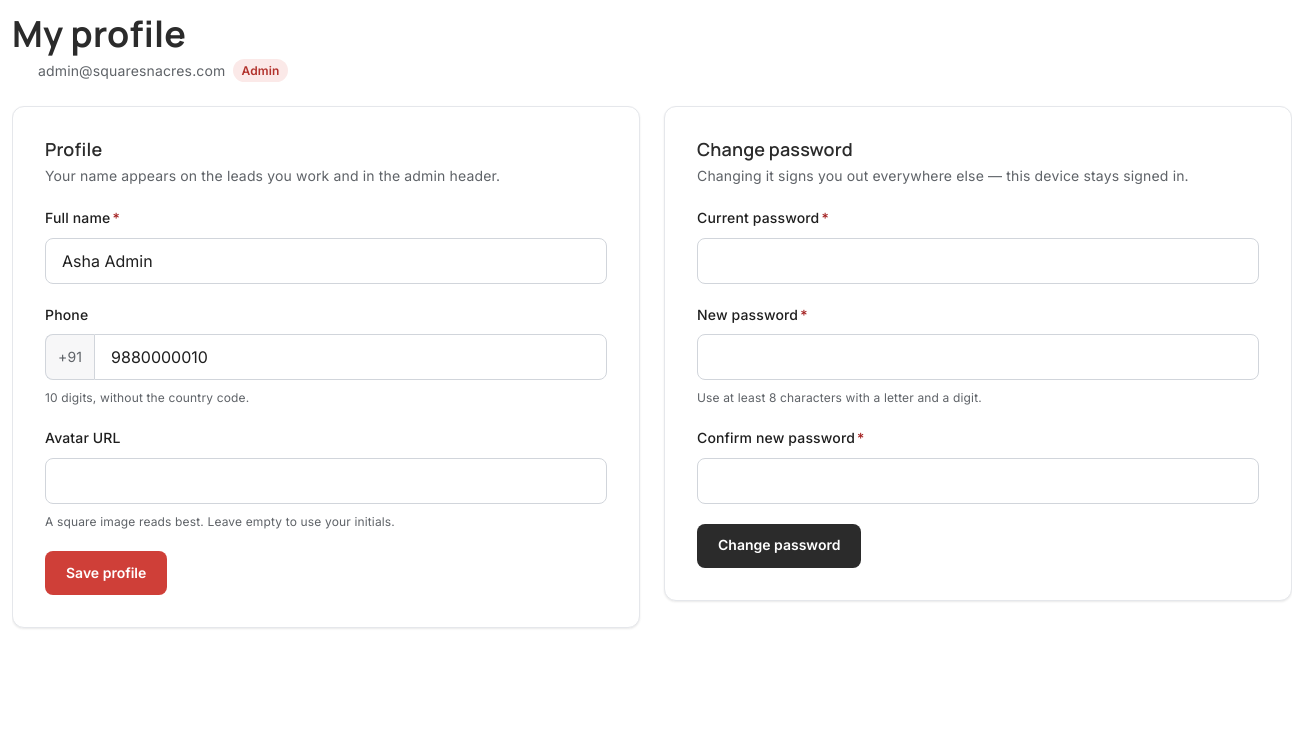
ProfilePage — QA-64 › refuses a new password that is the current one
Type "Admin@123" into the password field labelled "Current password*".
click(978, 261); type("Admin@123")  # box [697,238,1259,284]
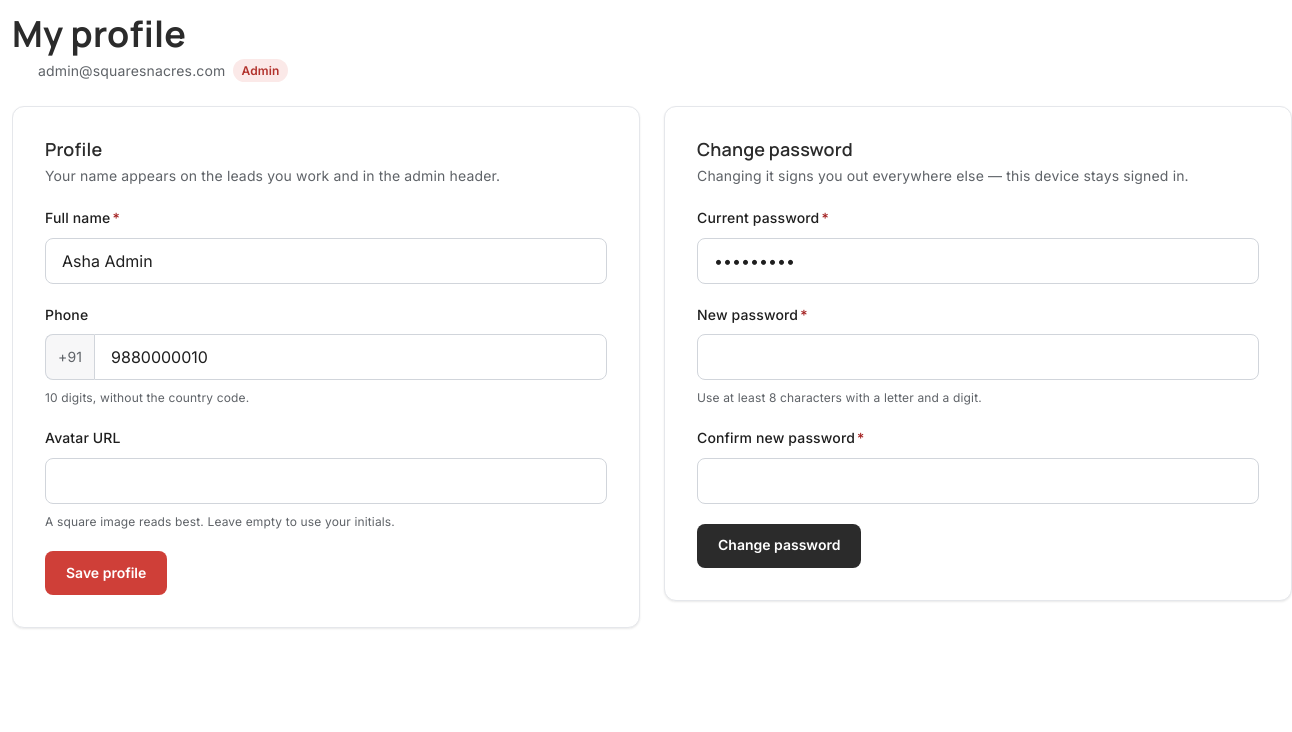
Type "Admin@123" into the password field labelled "New password*".
click(978, 357); type("Admin@123")  # box [697,334,1259,380]
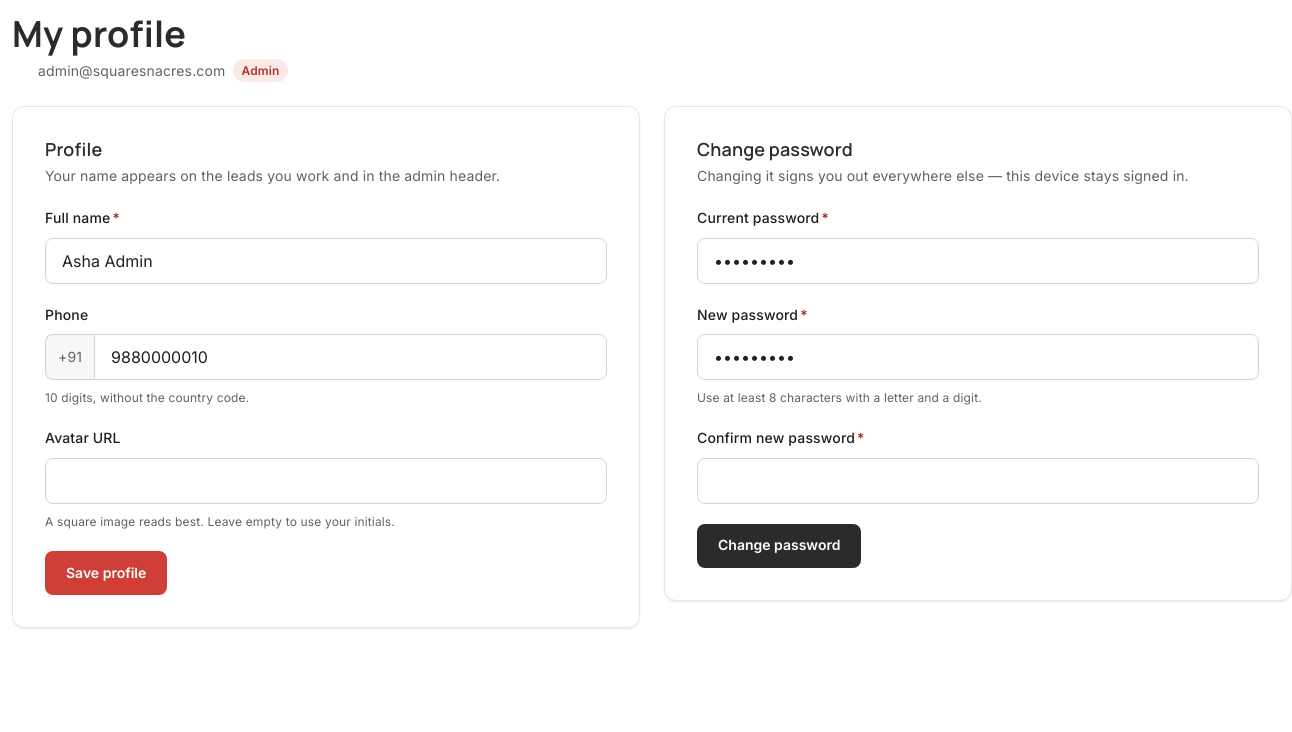
Type "Admin@123" into the password field labelled "Confirm new password*".
click(978, 481); type("Admin@123")  # box [697,458,1259,504]
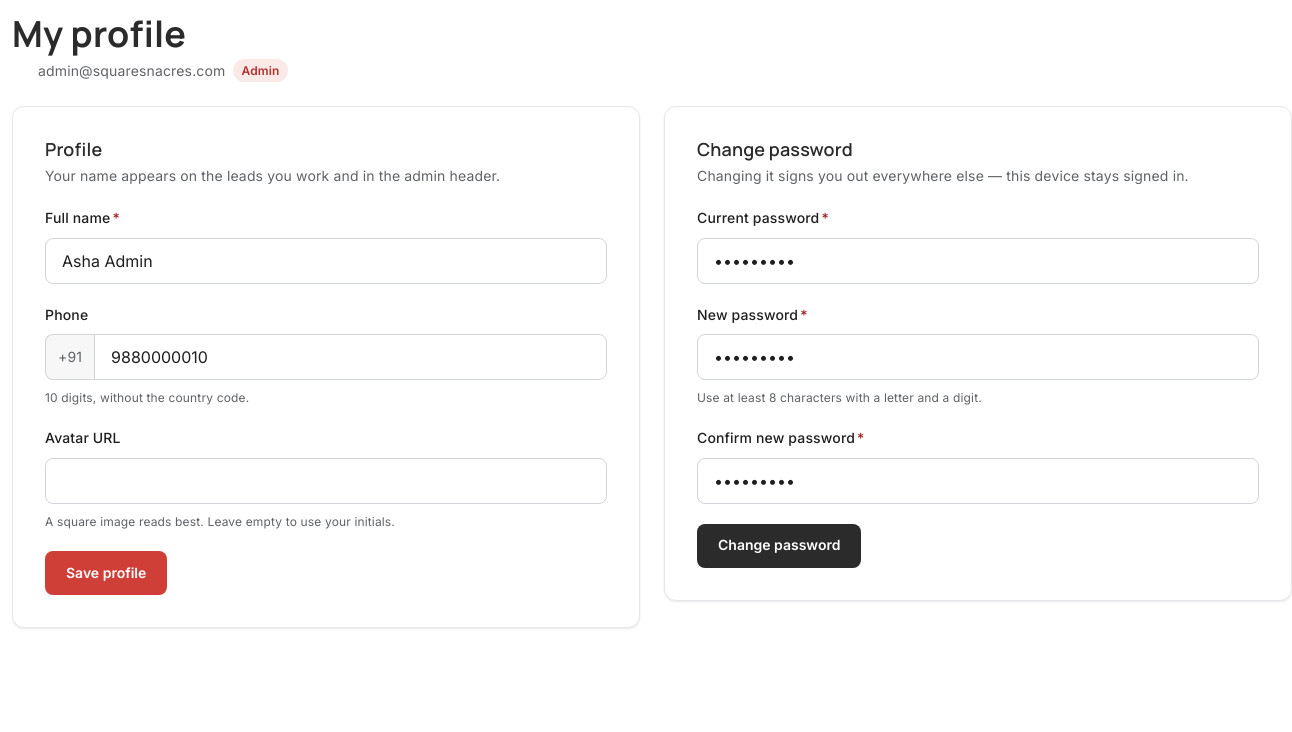
Click the button "Change password".
click(779, 546)  # box [697,524,861,568]
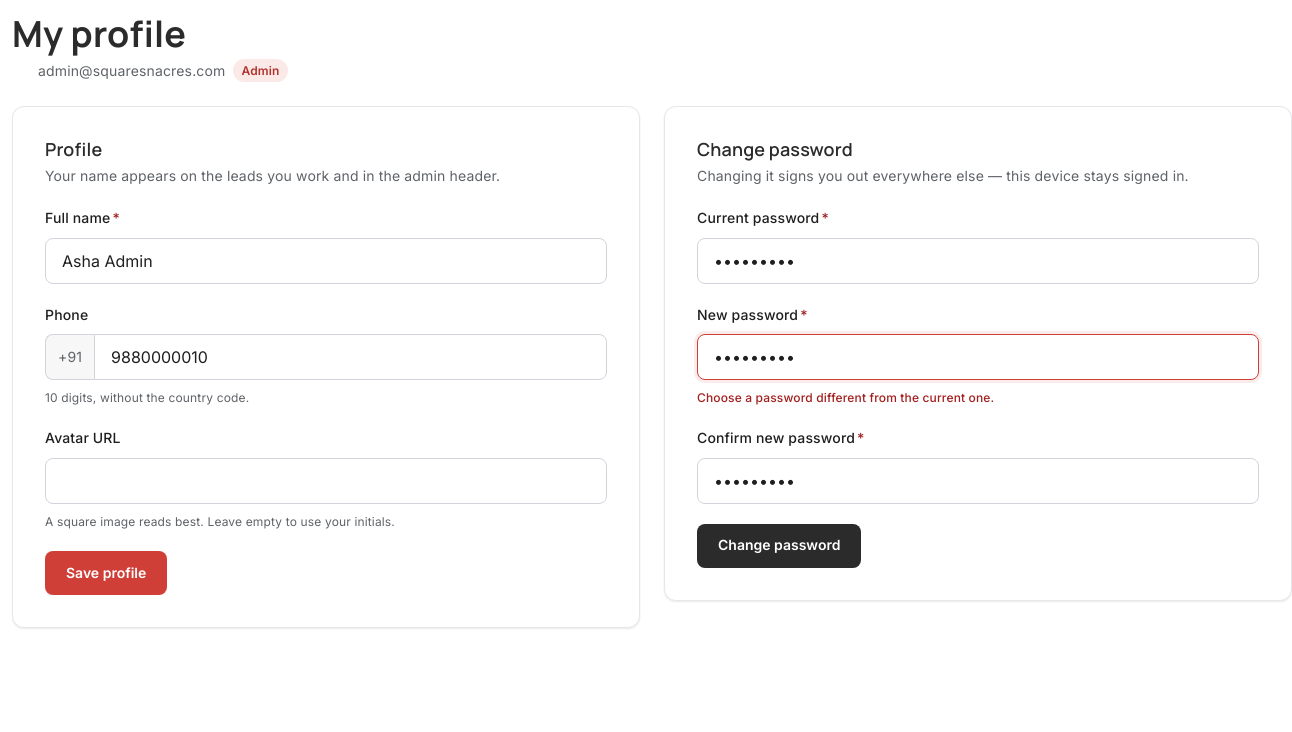
Now the text "Choose a password different from the current one." is shown, box [697,390,994,405]
